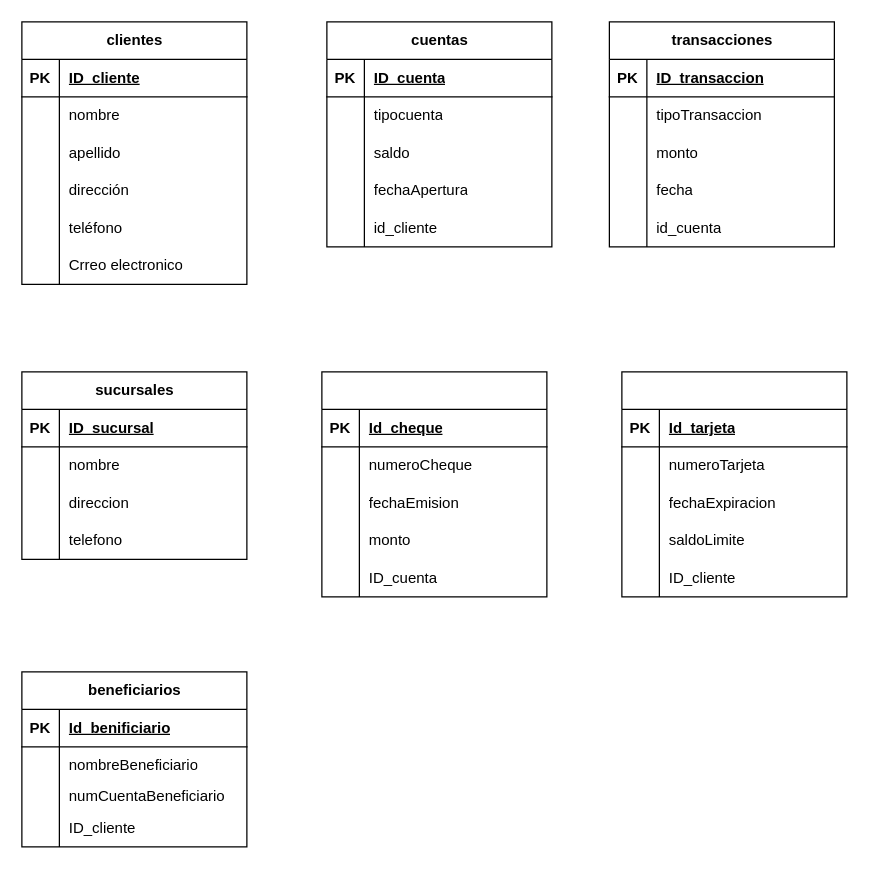
The diagram is 869 pixels wide and 869 high, and some of its shapes have lost their labels. The shapes that lost their labels are listed below. From the top down, each one's box as (x1, y1, x2, y2) in pixels, then its label:
(321, 371, 547, 597): cheques
(621, 371, 847, 597): tarjetas de credito
